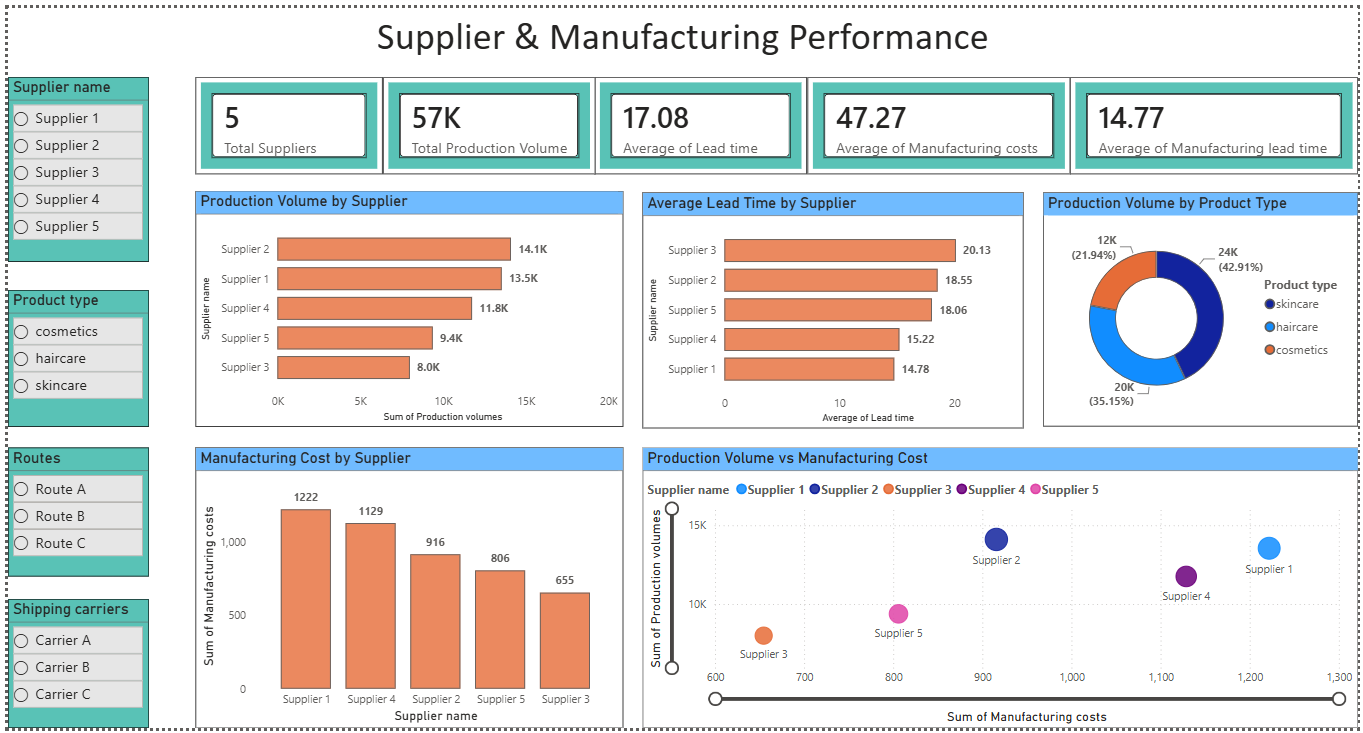

Layout of this report page (visuals, bound fields, positions):
{"tool":"powerbi","page":{"name":"Page 3","canvas":[1500,800],"ordinal":2},"visuals":[{"type":"textbox","box":[0,0,1500,76],"z":0},{"type":"cardVisual","fields":{"Data":["Avg(project_supply_chain_data supply_chain_data.Lead time)"]},"box":[652,76,236,108],"z":1000},{"type":"cardVisual","fields":{"Data":["project_supply_chain_data supply_chain_data.Total Suppliers"]},"box":[208,76,208,108],"z":2000},{"type":"cardVisual","fields":{"Data":["project_supply_chain_data supply_chain_data.Total Production Volume"]},"box":[416,76,236,108],"z":3000},{"type":"cardVisual","fields":{"Data":["Avg(project_supply_chain_data supply_chain_data.Manufacturing costs)"]},"box":[888,76,292,108],"z":4000},{"type":"cardVisual","fields":{"Data":["Avg(project_supply_chain_data supply_chain_data.Manufacturing lead time)"]},"box":[1180,76,320,108],"z":5000},{"type":"listSlicer","fields":{"Values":["project_supply_chain_data supply_chain_data.Supplier name"]},"box":[0,76.7,156.7,205],"z":6000},{"type":"listSlicer","fields":{"Values":["project_supply_chain_data supply_chain_data.Product type"]},"box":[0,313.3,156.7,151.7],"z":7000},{"type":"listSlicer","fields":{"Values":["project_supply_chain_data supply_chain_data.Routes"]},"box":[0,488.3,156.7,143.3],"z":8000},{"type":"barChart","title":"Production Volume by Supplier","fields":{"Category":["project_supply_chain_data supply_chain_data.Supplier name"],"Y":["Sum(project_supply_chain_data supply_chain_data.Production volumes)"]},"box":[208.3,203.3,475,261.7],"z":9000},{"type":"columnChart","title":"Manufacturing Cost by Supplier","fields":{"Category":["project_supply_chain_data supply_chain_data.Supplier name"],"Y":["Sum(project_supply_chain_data supply_chain_data.Manufacturing costs)"]},"box":[208.3,488.3,475,311.7],"z":10000},{"type":"barChart","title":"Average Lead Time by Supplier","fields":{"Category":["project_supply_chain_data supply_chain_data.Supplier name"],"Y":["Avg(project_supply_chain_data supply_chain_data.Lead time)"]},"box":[705,205,423.3,261.7],"z":11000},{"type":"donutChart","title":"Production Volume by Product Type","fields":{"Y":["Sum(project_supply_chain_data supply_chain_data.Production volumes)"],"Category":["project_supply_chain_data supply_chain_data.Product type"]},"box":[1150,205,350,260],"z":12000},{"type":"scatterChart","title":"Production Volume vs Manufacturing Cost","fields":{"X":["Sum(project_supply_chain_data supply_chain_data.Manufacturing costs)"],"Y":["Sum(project_supply_chain_data supply_chain_data.Production volumes)"],"Series":["project_supply_chain_data supply_chain_data.Supplier name"],"Size":["Sum(project_supply_chain_data supply_chain_data.Production volumes)"]},"box":[705,488.3,795,311.7],"z":13000},{"type":"listSlicer","fields":{"Values":["project_supply_chain_data supply_chain_data.Shipping carriers"]},"box":[0,656.7,156.7,143.3],"z":14000}]}

Visuals, with their boxes in screenshot pixels (x1, y1, x2, y2), scaled from the page's 1500x800 canvas onto the 1363x733 screenshot:
textbox: Rect(0, 0, 1362, 70)
cardVisual - Avg(project_supply_chain_data supply_chain_data.Lead time): Rect(592, 70, 807, 169)
cardVisual - project_supply_chain_data supply_chain_data.Total Suppliers: Rect(189, 70, 378, 169)
cardVisual - project_supply_chain_data supply_chain_data.Total Production Volume: Rect(378, 70, 592, 169)
cardVisual - Avg(project_supply_chain_data supply_chain_data.Manufacturing costs): Rect(807, 70, 1072, 169)
cardVisual - Avg(project_supply_chain_data supply_chain_data.Manufacturing lead time): Rect(1072, 70, 1362, 169)
listSlicer - project_supply_chain_data supply_chain_data.Supplier name: Rect(0, 70, 142, 258)
listSlicer - project_supply_chain_data supply_chain_data.Product type: Rect(0, 287, 142, 426)
listSlicer - project_supply_chain_data supply_chain_data.Routes: Rect(0, 447, 142, 579)
"Production Volume by Supplier" barChart: Rect(189, 186, 621, 426)
"Manufacturing Cost by Supplier" columnChart: Rect(189, 447, 621, 732)
"Average Lead Time by Supplier" barChart: Rect(641, 188, 1025, 428)
"Production Volume by Product Type" donutChart: Rect(1045, 188, 1362, 426)
"Production Volume vs Manufacturing Cost" scatterChart: Rect(641, 447, 1362, 732)
listSlicer - project_supply_chain_data supply_chain_data.Shipping carriers: Rect(0, 602, 142, 732)
